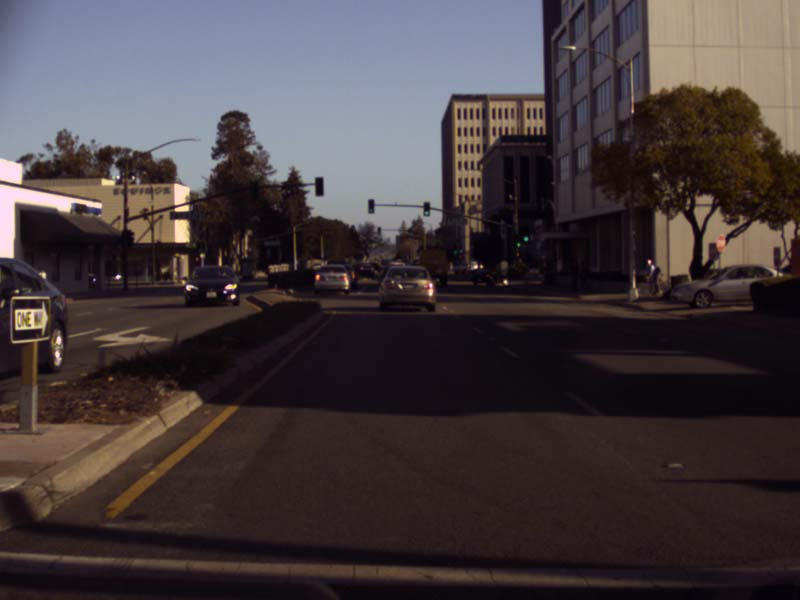Green: (367, 198, 374, 213), (423, 201, 430, 216), (513, 235, 521, 248), (451, 244, 458, 254), (522, 234, 529, 241), (407, 228, 413, 236), (377, 226, 380, 234)
